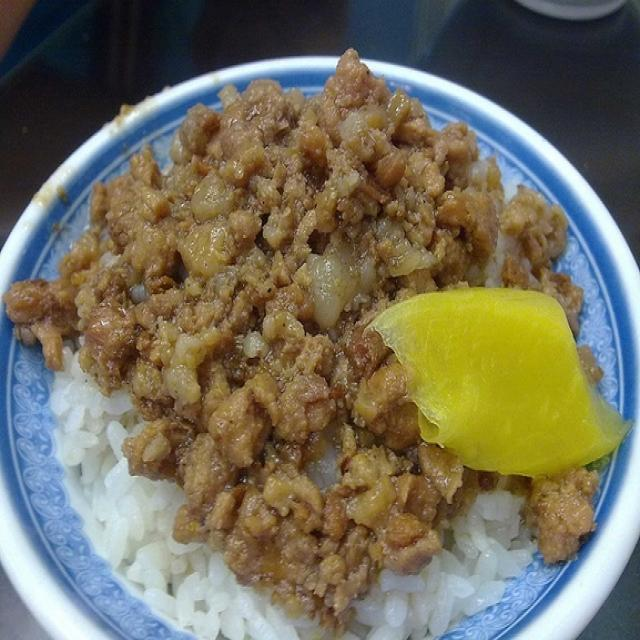猪肉菜式: (61, 81, 609, 621)
